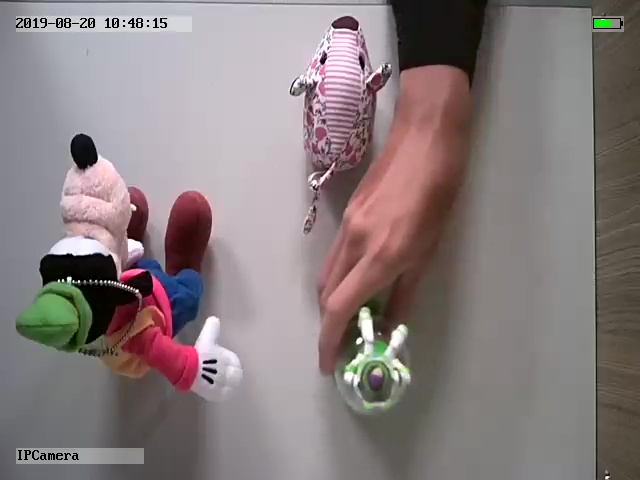buzz: (330, 305, 415, 419)
goofy: (12, 131, 243, 405)
pig: (288, 15, 392, 233)
